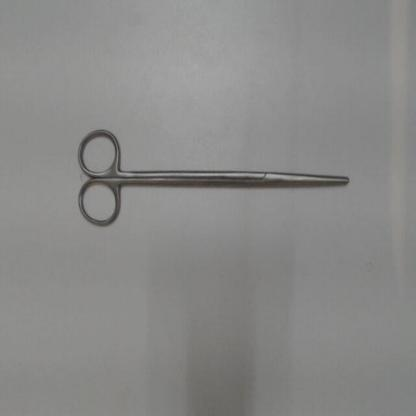9 Metzenbaum Scissors: (71, 124, 353, 231)
